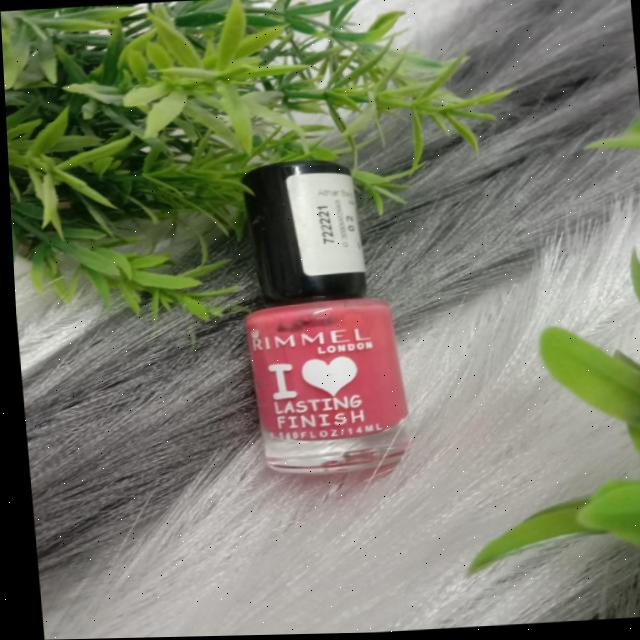nail polish: (183, 141, 415, 493)
